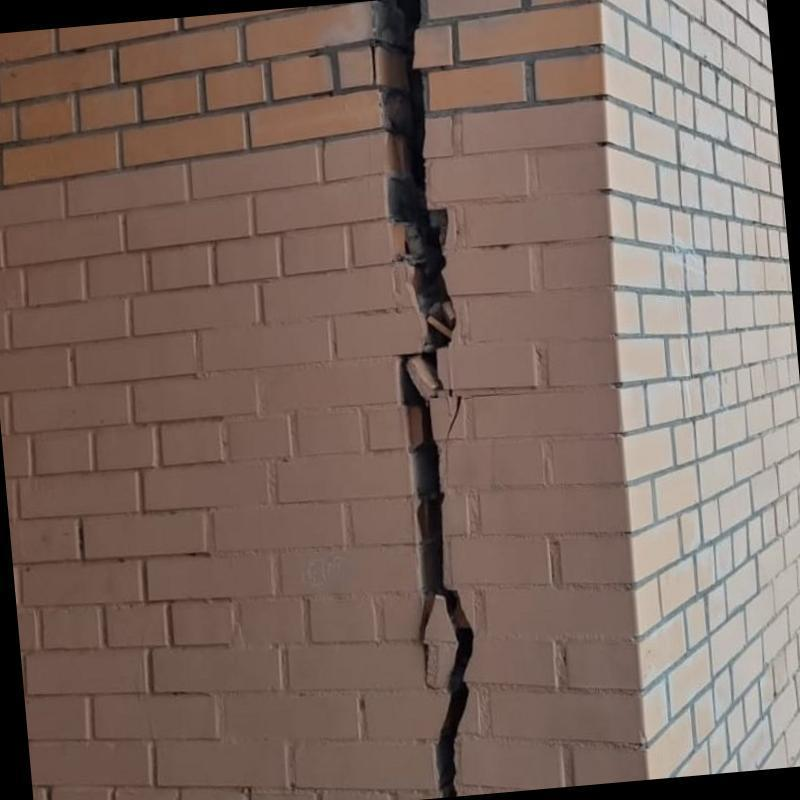pothole: (372, 0, 455, 399), (399, 363, 474, 797), (446, 395, 462, 444), (448, 389, 452, 397)
